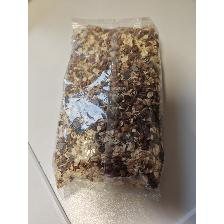Cerealien: (51, 14, 169, 202)
